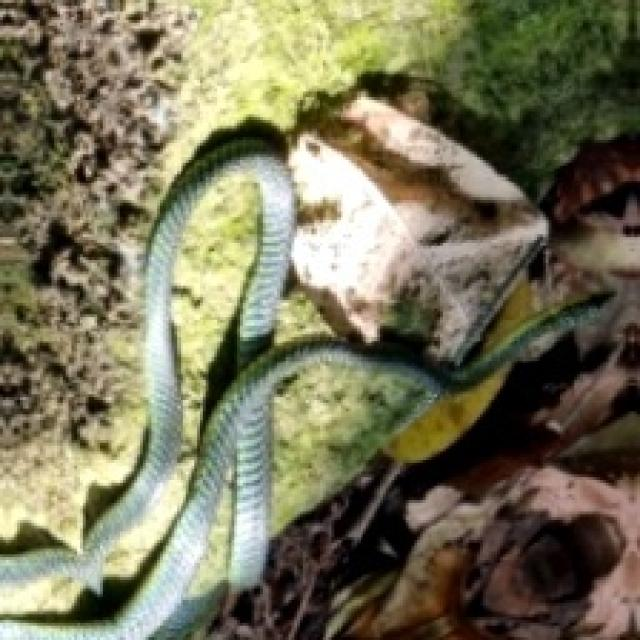paradise tree snake: (0, 122, 608, 640)
